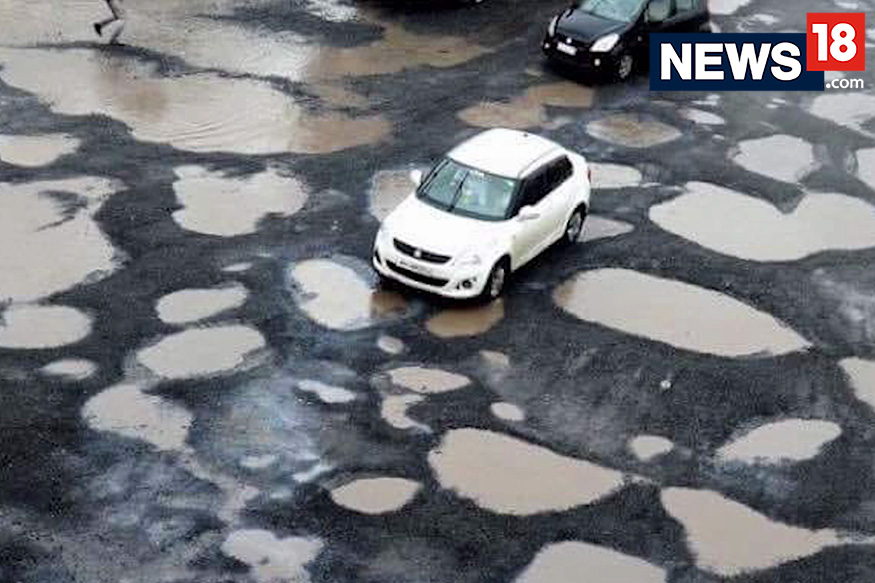pothole: (569, 244, 860, 394), (0, 124, 115, 306), (429, 417, 595, 539), (299, 242, 424, 367), (145, 323, 287, 431), (641, 180, 851, 251), (334, 457, 431, 554), (569, 108, 708, 156), (466, 62, 586, 115), (214, 505, 294, 579), (137, 290, 271, 325)
